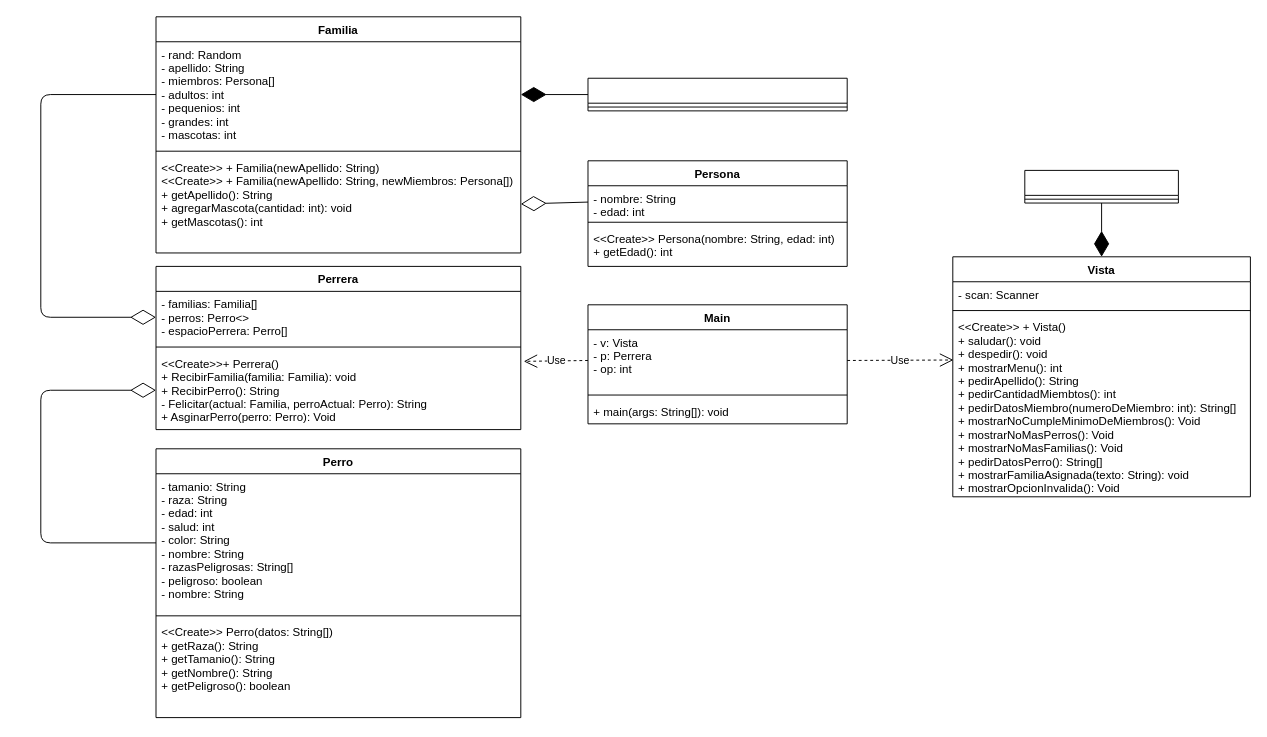
The diagram is 1267 pixels wide and 737 high, and some of its shapes have lost their labels. The shapes that lost their labels are listed below. From the top down, each one's centre as x and y in pixels, then its label:
(x=717, y=94): Random
(x=1101, y=186): Scanner
